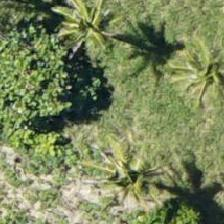coconut_tree: (84, 121, 174, 211), (42, 0, 132, 71), (161, 28, 223, 118)
